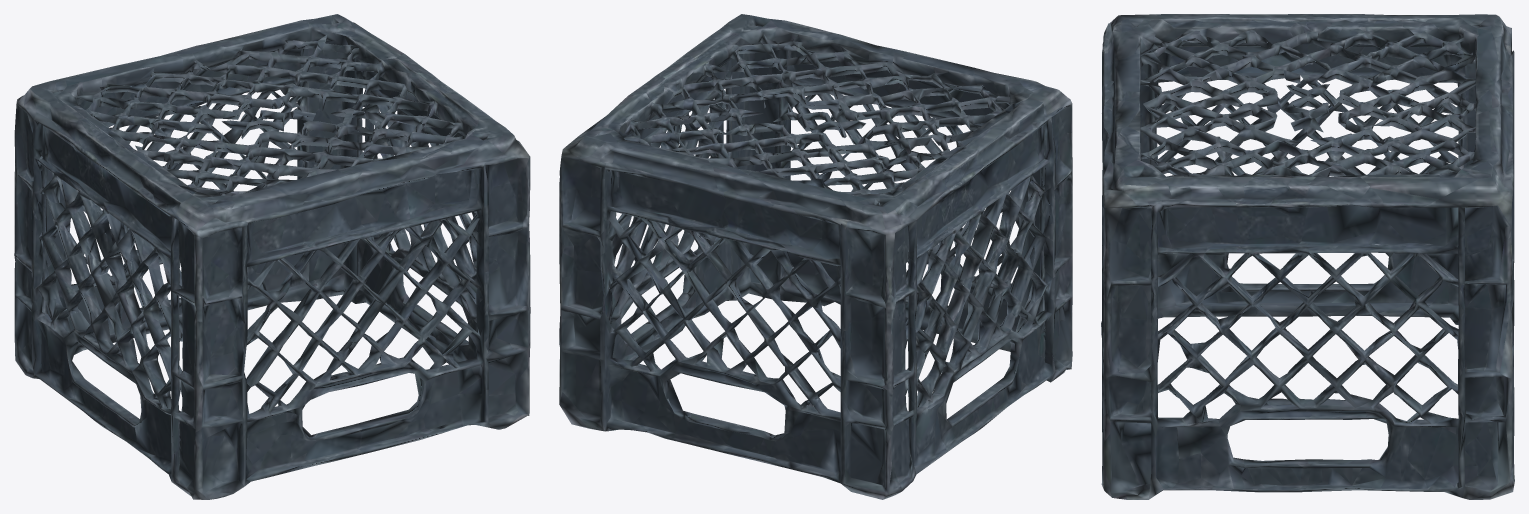
The model's file is mobile.glb.
3 views of the same model, side by side, from view 1: azimuth 30°, elevation 25°; view 2: azimuth 150°, elevation 25°; view 3: azimuth 270°, elevation 25° (orthographic). The views are drawn at different scales.
Visible parts, largest first — view 1: d-milktable; view 2: d-milktable; view 3: d-milktable.
Boxes of the visible parts, x1,y1,x2,y2 form: d-milktable: (14,14,530,499); d-milktable: (559,14,1072,499); d-milktable: (1101,14,1514,499).
Size of the model in its own units: 0.3499 by 0.2782 by 0.3341.
Materials: 1 (1 with a texture image).
